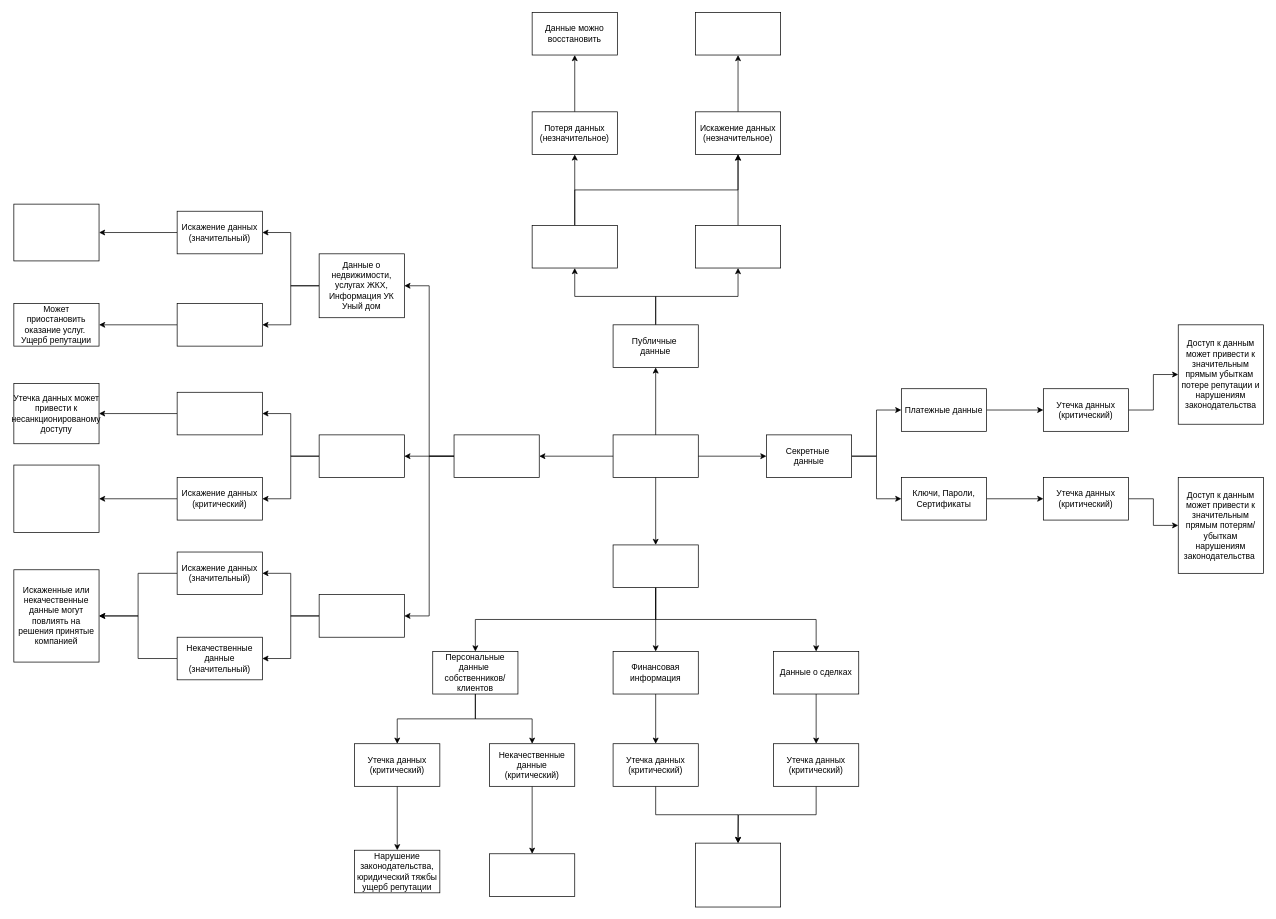
This 1276x919 diagram has some shape labels left out. The shapes that lost their labels are listed below. From the top down, each one's centre as x and y in pixels, then its label:
At (x=738, y=33): "Обман клиентов, снижение репутации".
At (x=56, y=232): "Может ввести в заблуждение клиентов нанести ущерб репутации".
At (x=574, y=246): "Информация об обьектах недвижимости".
At (x=738, y=246): "Информация о компании".
At (x=219, y=324): "Потеря данных (значительный)".
At (x=219, y=413): "Утечка данных (значительный)".
At (x=361, y=455): "Технические данные".
At (x=496, y=455): "Внутренние данные".
At (x=655, y=455): "Безопасность данных".
At (x=56, y=498): "Могут быть скрыты доступы к системам путем модификации логов".
At (x=655, y=566): "Конфединциальные данные".
At (x=361, y=615): "Отчеты и аналитика".
At (x=532, y=874): "Не заключение сделок Анулирование сделок".
At (x=738, y=874): "Может привести к финансовым потерям как клиентов так и компании".
